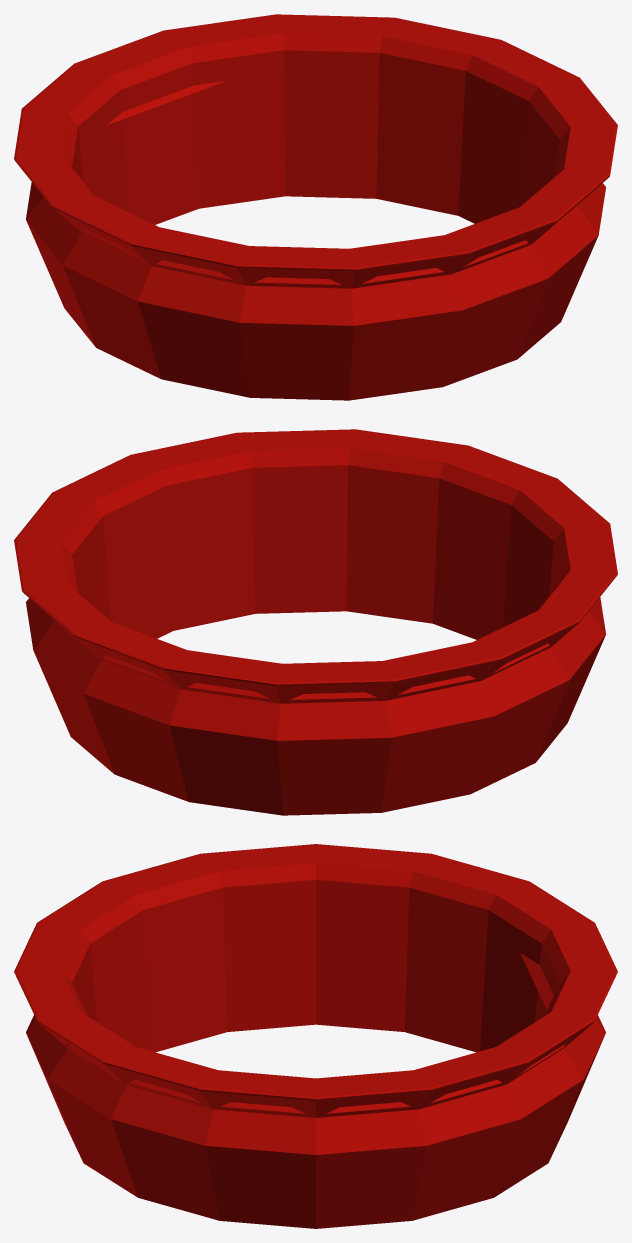
Rendered from Baluminaria-Boca.fbx.
3 views of the same model, one above another, from view 1: azimuth 30°, elevation 25°; view 2: azimuth 150°, elevation 25°; view 3: azimuth 270°, elevation 25° (orthographic).
Visible parts, largest first — view 1: Boca; view 2: Boca; view 3: Boca.
Part boxes in pixels (x1,y1,x2,y2): Boca: (14,14,617,400); Boca: (14,429,617,815); Boca: (14,844,617,1228).
Bounding box in the file's own units: 7441 × 2064 × 7441.
